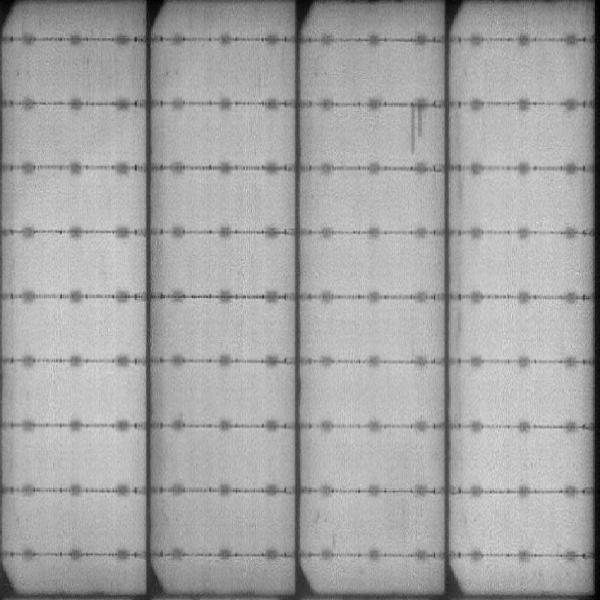scratch: (410, 108, 423, 154)
